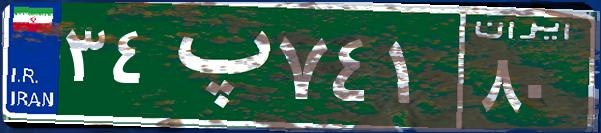0: (525, 38, 570, 115)
1: (385, 28, 445, 110)
3: (57, 26, 110, 107)
4: (330, 28, 385, 110), (110, 28, 158, 105)
7: (273, 28, 330, 110)
8: (475, 38, 525, 113)
پ: (158, 15, 273, 115)
